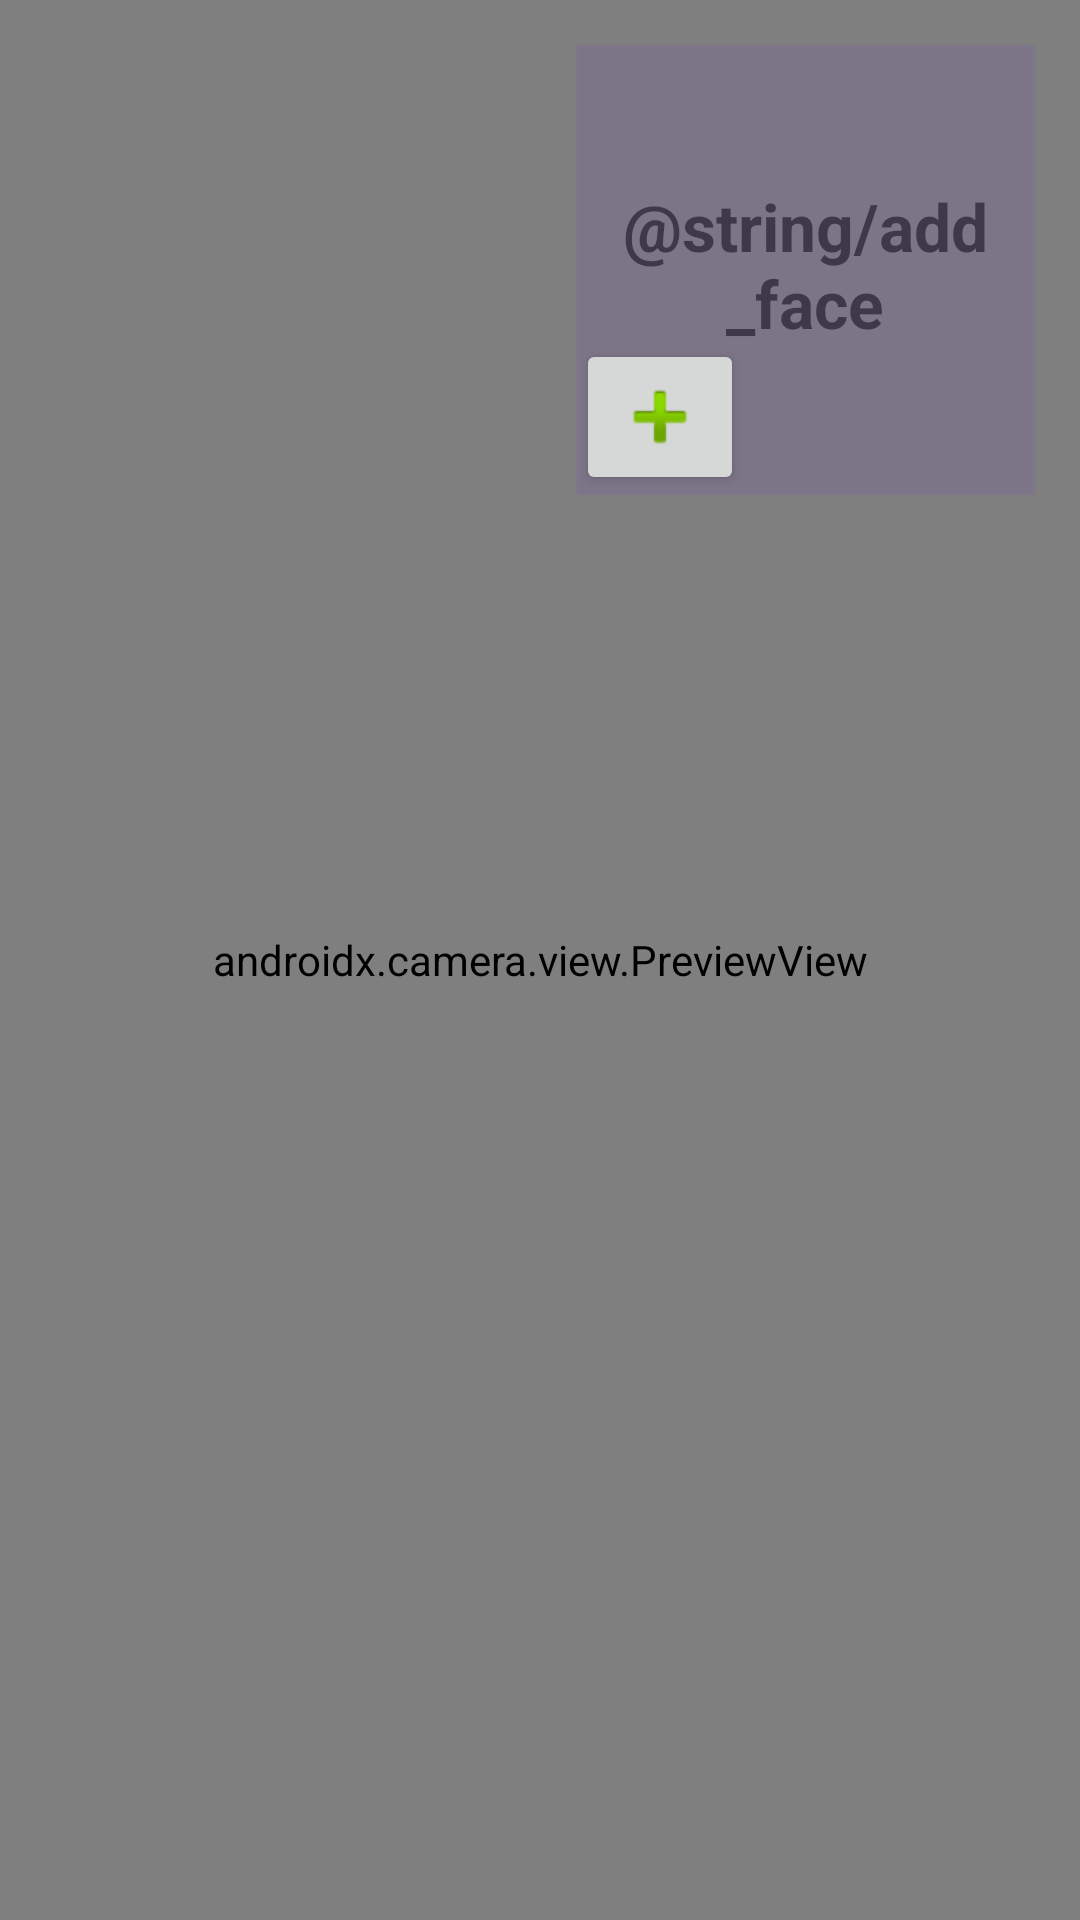

Where to tap for icons on this 1080*1920 app screen, as [x,y]:
add: [660,417]
